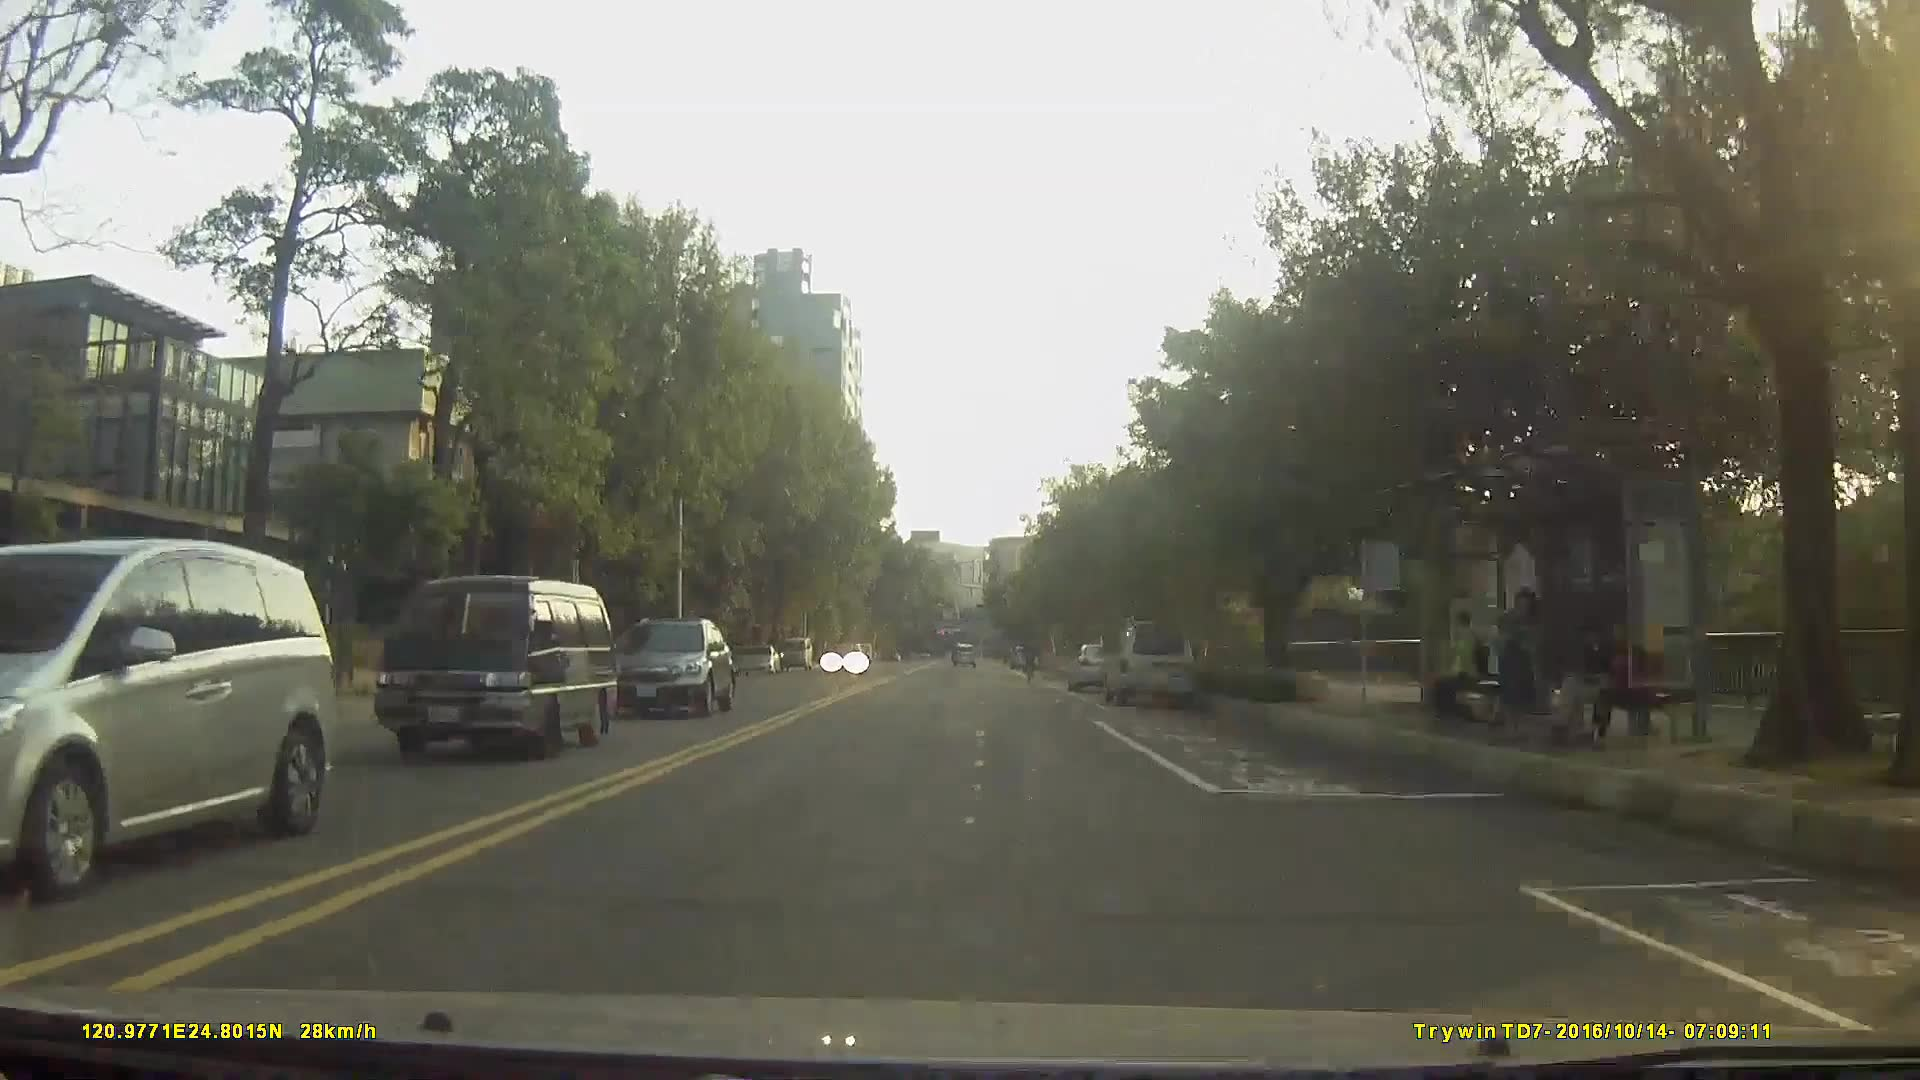pedestrian: (1539, 601, 1612, 749), (1493, 580, 1546, 748), (1434, 605, 1495, 725)
rider: (1021, 633, 1041, 686)
vehicle: (0, 535, 335, 899), (372, 570, 617, 765), (606, 616, 737, 715), (1103, 617, 1194, 705), (1067, 639, 1126, 689), (818, 638, 866, 674), (738, 641, 781, 674), (778, 633, 812, 671), (950, 640, 975, 665)
